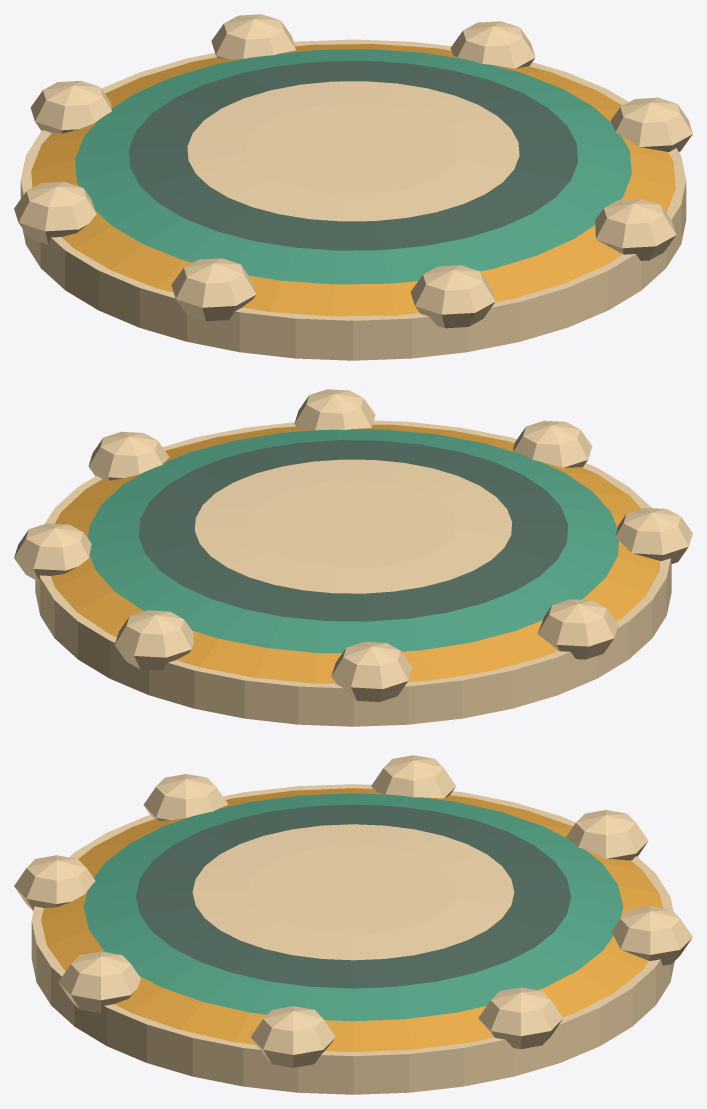
The model's file is ParkParkRainbowMound.obj.
3 renders of one model, top to bottom at view 1: azimuth 30°, elevation 25°; view 2: azimuth 150°, elevation 25°; view 3: azimuth 270°, elevation 25°, orthographic. The views are drawn at different scales.
Visible parts, largest first — view 1: ParkParkRainbowMound; view 2: ParkParkRainbowMound; view 3: ParkParkRainbowMound.
Part boxes in pixels (x1=…): ParkParkRainbowMound: x1=14, y1=14, x2=692, y2=360; ParkParkRainbowMound: x1=14, y1=389, x2=692, y2=726; ParkParkRainbowMound: x1=14, y1=755, x2=692, y2=1094.
Size of the model in its own units: 14.34 by 1.7 by 14.34.
